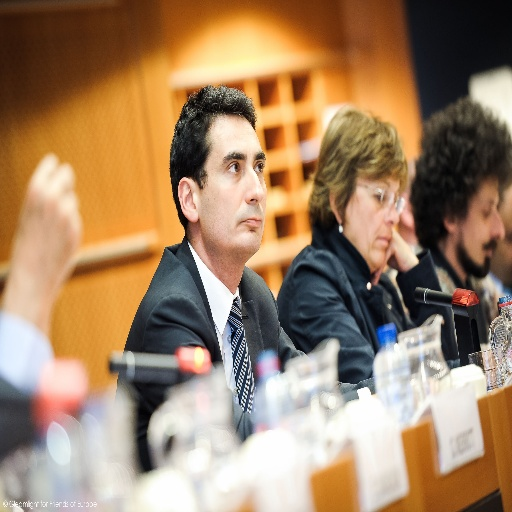hand: (16, 135, 87, 354), (368, 227, 420, 287)
